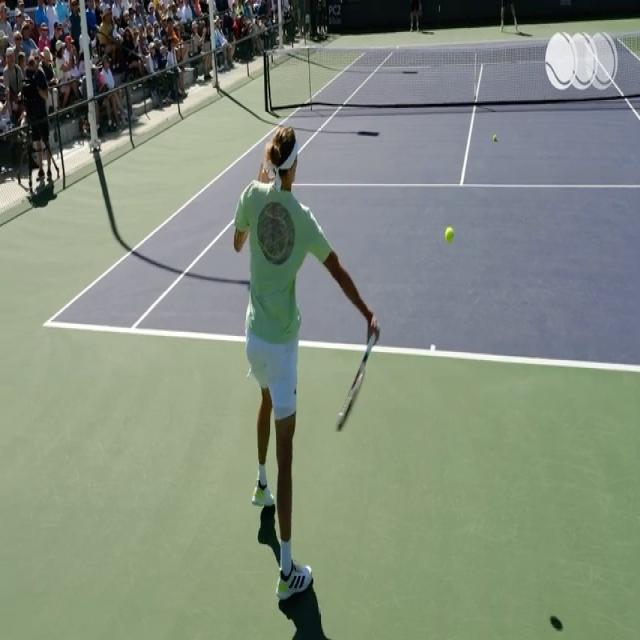forehand-stroke: (229, 127, 379, 612)
